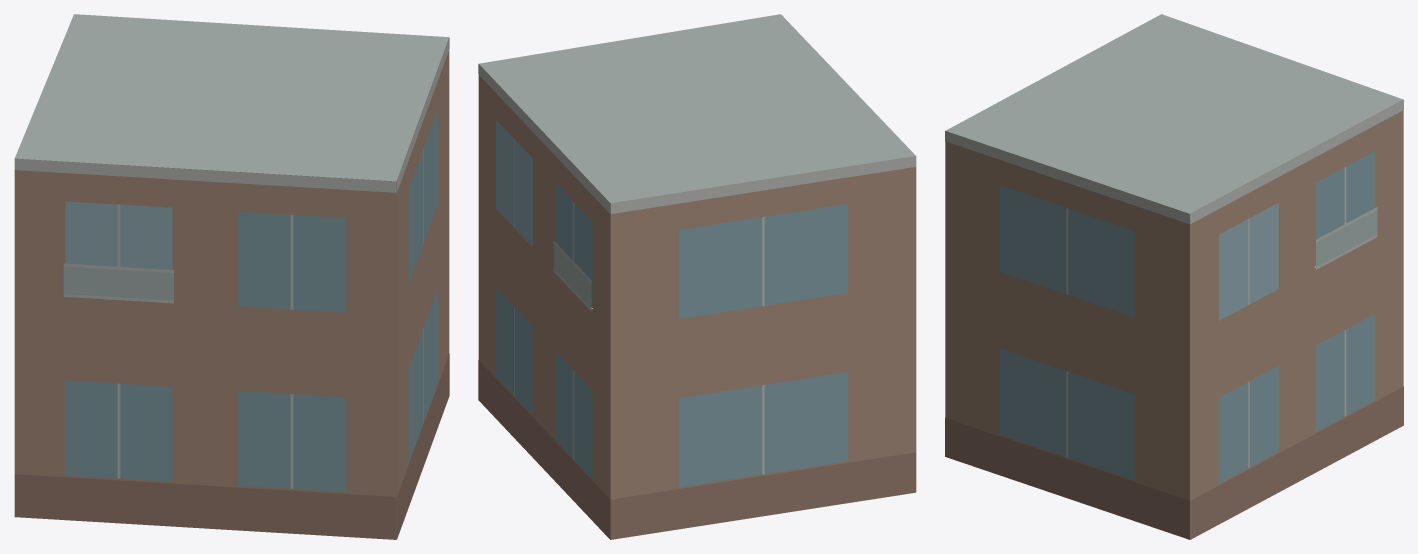
File: survey-upis-32964290.glb
The picture shows the model from 3 angles, left to right: view 1: azimuth 30°, elevation 25°; view 2: azimuth 150°, elevation 25°; view 3: azimuth 270°, elevation 25°; orthographic projection. The views are drawn at different scales.
Visible parts, largest first — view 1: survey-upis-32964290.tmp; view 2: survey-upis-32964290.tmp; view 3: survey-upis-32964290.tmp.
Part boxes in pixels (x1,y1,x2,y2): survey-upis-32964290.tmp: [14, 14, 449, 539]; survey-upis-32964290.tmp: [478, 14, 916, 539]; survey-upis-32964290.tmp: [945, 14, 1403, 539].
Bounding box in the file's own units: 10.01 × 7.6 × 9.7.
